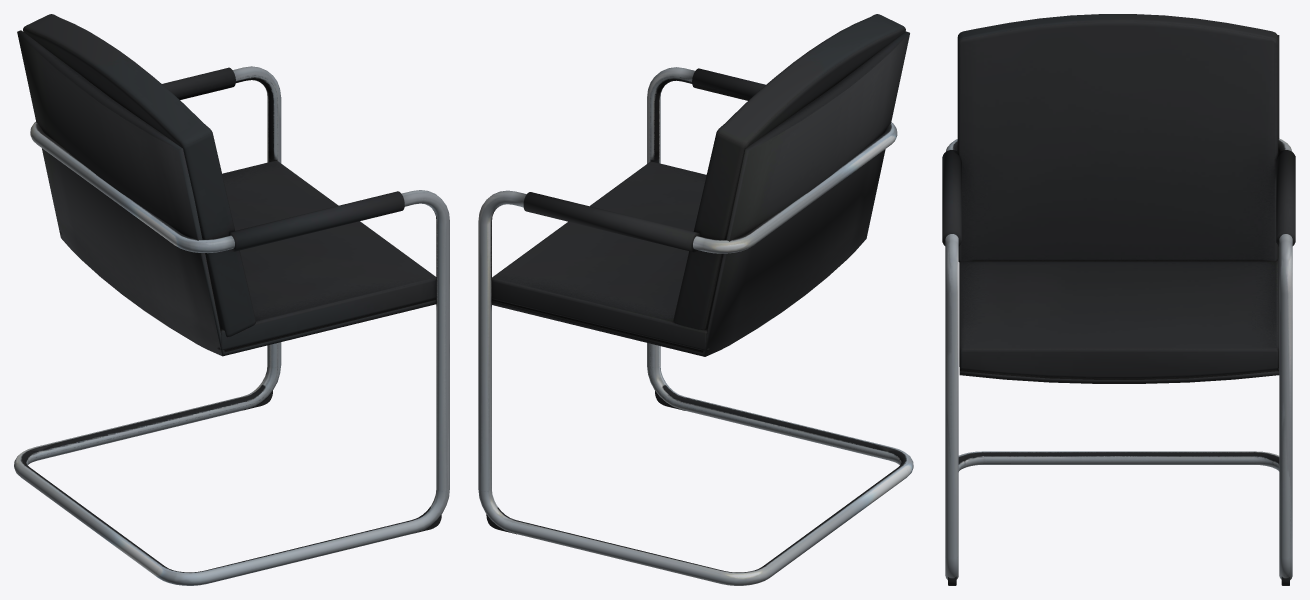
Rendered from neos_s.glb.
The picture shows the model from 3 angles, left to right: view 1: azimuth 30°, elevation 25°; view 2: azimuth 150°, elevation 25°; view 3: azimuth 270°, elevation 25°; orthographic projection.
Parts seen in each view (by area): view 1: neos_s-black; view 2: neos_s-black; view 3: neos_s-black.
Boxes of the visible parts, x1=… form: neos_s-black: x1=14, y1=14, x2=449, y2=585; neos_s-black: x1=478, y1=14, x2=913, y2=585; neos_s-black: x1=942, y1=14, x2=1295, y2=585.
Bounding box in the file's own units: 0.4961 × 0.7953 × 0.5548.
Materials: 1 (1 with a texture image).
